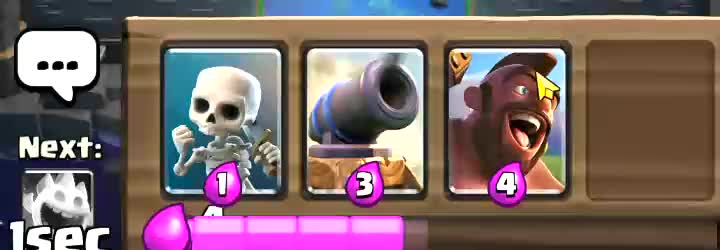cannon: (306, 58, 413, 200)
hog-rider: (444, 53, 557, 197)
